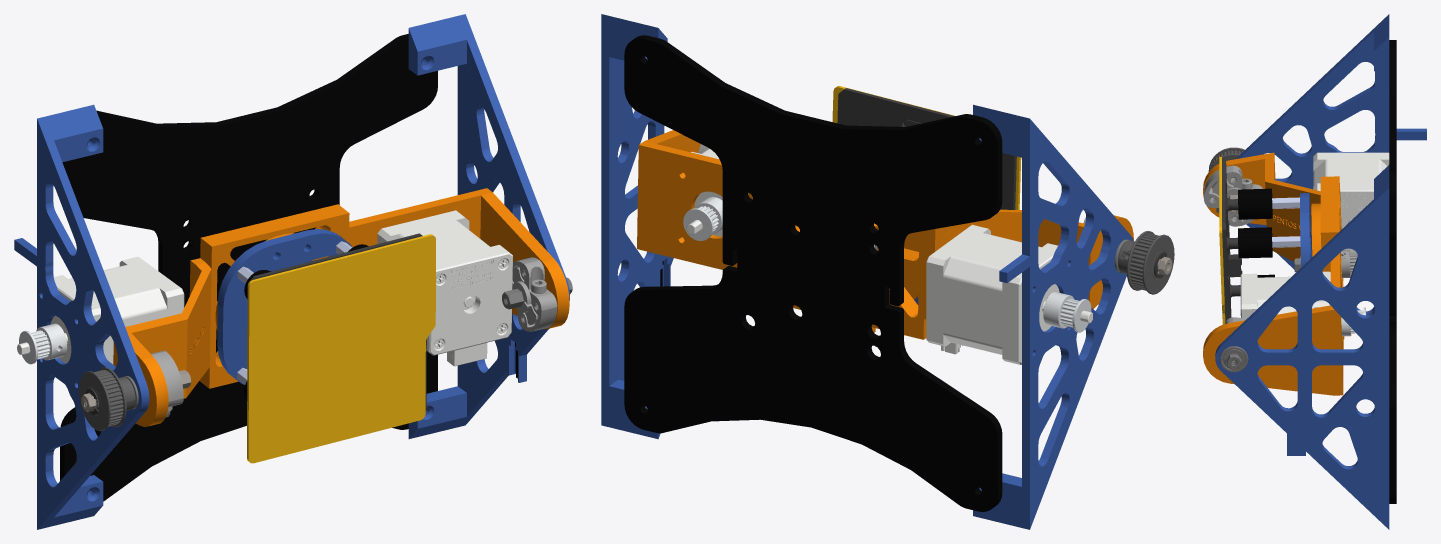
File: pentos.glb
The picture shows the model from 3 angles, left to right: view 1: azimuth 30°, elevation 25°; view 2: azimuth 150°, elevation 25°; view 3: azimuth 270°, elevation 25°; orthographic projection. The views are drawn at different scales.
Parts seen in each view (by area): view 1: Y-Gantry, Buildplate, U-Axis Holder, U-Axis Craddle, U-Axis Holder Back, LDO Nema_17_47STH (hhe 48 mm) v4, V-Axis Base, LDO Nema_17_47STH (hhe 48 mm) v4 #2, 2806-0005-0004 v8, 1309 Series Sonic Hub (8mm REX Bore) 1309-0016-4008 #2, Gates_2GT_20T_Toothed_Pulley, 1309 Series Sonic Hub (8mm REX Bore) 1309-0016-4008 (+1 smaller); view 2: Y-Gantry, U-Axis Holder, U-Axis Craddle, U-Axis Holder Back, LDO Nema_17_47STH (hhe 48 mm) v4 #2, Prusa Magnetic Heatbed Tile v3, 2806-0005-0004 v8, Gates_2GT_20T_Toothed_Pulley, Gates_2GT_20T_Toothed_Pulley #2; view 3: U-Axis Holder Back, U-Axis Craddle, U-Axis Holder, Y-Gantry, LDO Nema_17_47STH (hhe 48 mm) v4 #2, Prusa Magnetic Heatbed Tile v3, LDO Nema_17_47STH (hhe 48 mm) v4, 1309 Series Sonic Hub (8mm REX Bore) 1309-0016-4008, Spacer #4, Spacer #3, V-Axis Base, Buildplate (+6 smaller).
Part boxes in pixels (<box>): Y-Gantry: <box>60,34,437,501</box>; Buildplate: <box>247,234,435,463</box>; U-Axis Holder: <box>14,104,149,529</box>; U-Axis Craddle: <box>113,188,569,426</box>; U-Axis Holder Back: <box>408,14,569,438</box>; LDO Nema_17_47STH (hhe 48 mm) v4: <box>377,210,512,366</box>; V-Axis Base: <box>217,229,352,384</box>; LDO Nema_17_47STH (hhe 48 mm) v4 #2: <box>17,256,184,364</box>; 2806-0005-0004 v8: <box>79,367,135,430</box>; 1309 Series Sonic Hub (8mm REX Bore) 1309-0016-4008 #2: <box>512,257,557,331</box>; Gates_2GT_20T_Toothed_Pulley: <box>19,323,67,364</box>; 1309 Series Sonic Hub (8mm REX Bore) 1309-0016-4008: <box>151,350,183,417</box>; Y-Gantry: <box>624,35,1002,511</box>; U-Axis Holder: <box>973,104,1133,529</box>; U-Axis Craddle: <box>637,130,1133,339</box>; U-Axis Holder Back: <box>601,14,673,439</box>; LDO Nema_17_47STH (hhe 48 mm) v4 #2: <box>926,224,1092,364</box>; Prusa Magnetic Heatbed Tile v3: <box>837,88,1016,209</box>; 2806-0005-0004 v8: <box>1118,231,1174,294</box>; Gates_2GT_20T_Toothed_Pulley: <box>1043,292,1091,332</box>; Gates_2GT_20T_Toothed_Pulley #2: <box>683,197,722,240</box>; U-Axis Holder Back: <box>1215,165,1389,529</box>; U-Axis Craddle: <box>1203,152,1344,395</box>; U-Axis Holder: <box>1235,14,1426,315</box>; Y-Gantry: <box>1389,40,1396,503</box>; LDO Nema_17_47STH (hhe 48 mm) v4 #2: <box>1313,152,1389,252</box>; Prusa Magnetic Heatbed Tile v3: <box>1222,157,1242,321</box>; LDO Nema_17_47STH (hhe 48 mm) v4: <box>1240,271,1330,319</box>; 1309 Series Sonic Hub (8mm REX Bore) 1309-0016-4008: <box>1204,165,1262,226</box>; Spacer #4: <box>1238,188,1272,219</box>; Spacer #3: <box>1238,227,1272,258</box>; V-Axis Base: <box>1300,193,1312,267</box>; Buildplate: <box>1219,156,1225,324</box>.
Size of the model in its own units: 0.246 by 0.2 by 0.1186.
